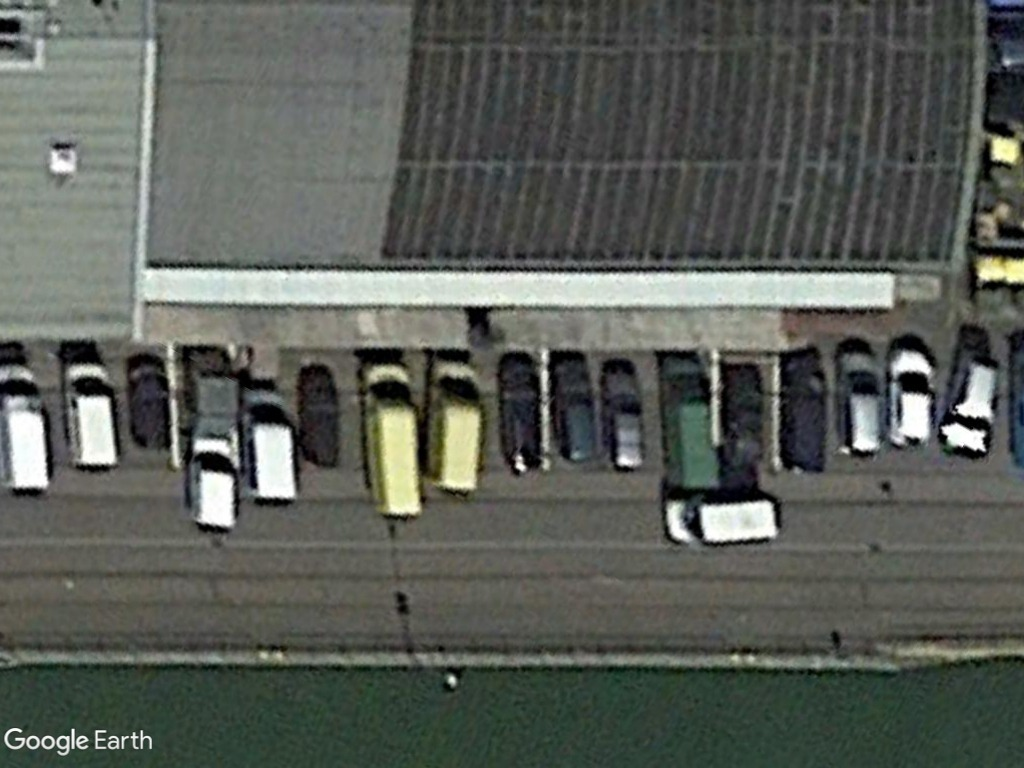car: (829, 344, 887, 464), (884, 342, 938, 451)
van: (354, 356, 428, 522), (421, 356, 484, 496), (235, 382, 300, 507), (56, 356, 124, 474), (657, 490, 784, 551), (0, 360, 52, 495), (182, 424, 236, 533)
